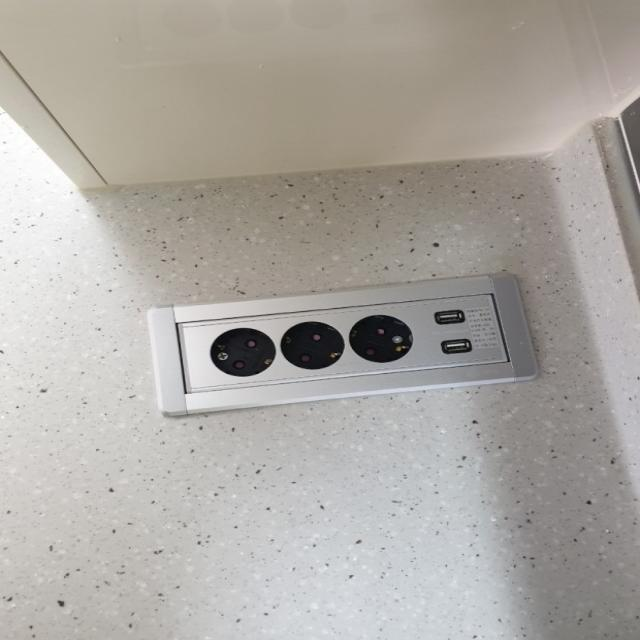typeb: (123, 259, 612, 440)
